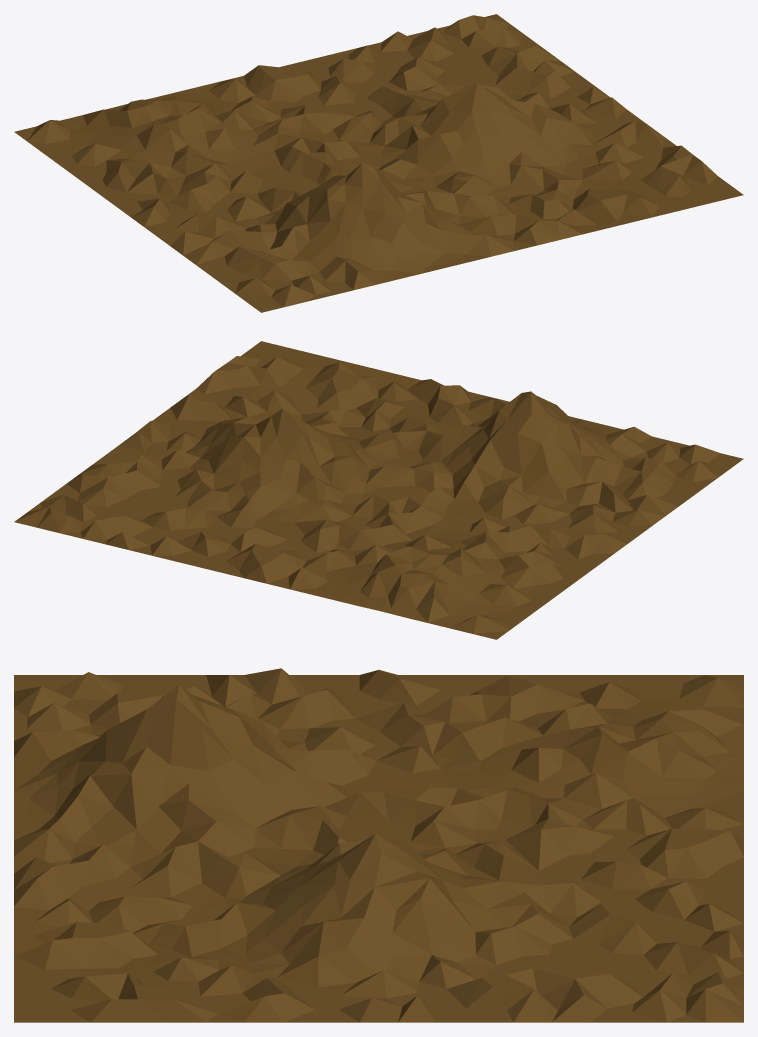
The model's file is DesertMap.fbx.
3 views of the same model, one above another, from view 1: azimuth 30°, elevation 25°; view 2: azimuth 150°, elevation 25°; view 3: azimuth 270°, elevation 25° (orthographic). The views are drawn at different scales.
Parts seen in each view (by area): view 1: Rectangle001; view 2: Rectangle001; view 3: Rectangle001.
Boxes of the visible parts, <box> form: Rectangle001: <box>14,14,743,312</box>; Rectangle001: <box>14,341,743,639</box>; Rectangle001: <box>14,668,743,1022</box>.
Size of the model in its own units: 1129 by 174 by 1002.
